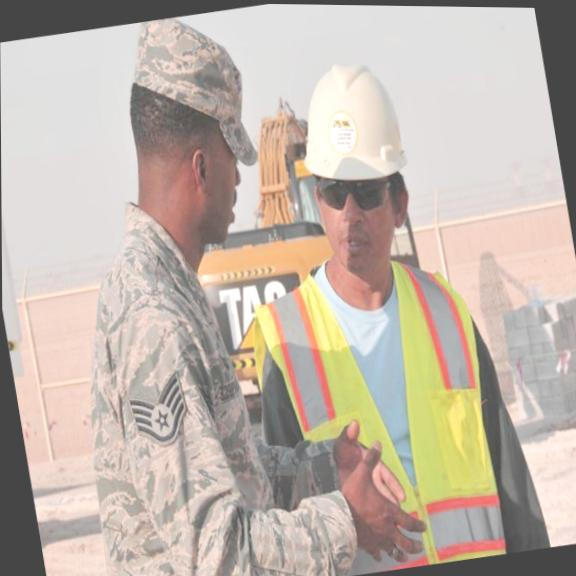no_safety_vest: (54, 186, 274, 562)
safety_vest: (235, 231, 514, 576)
